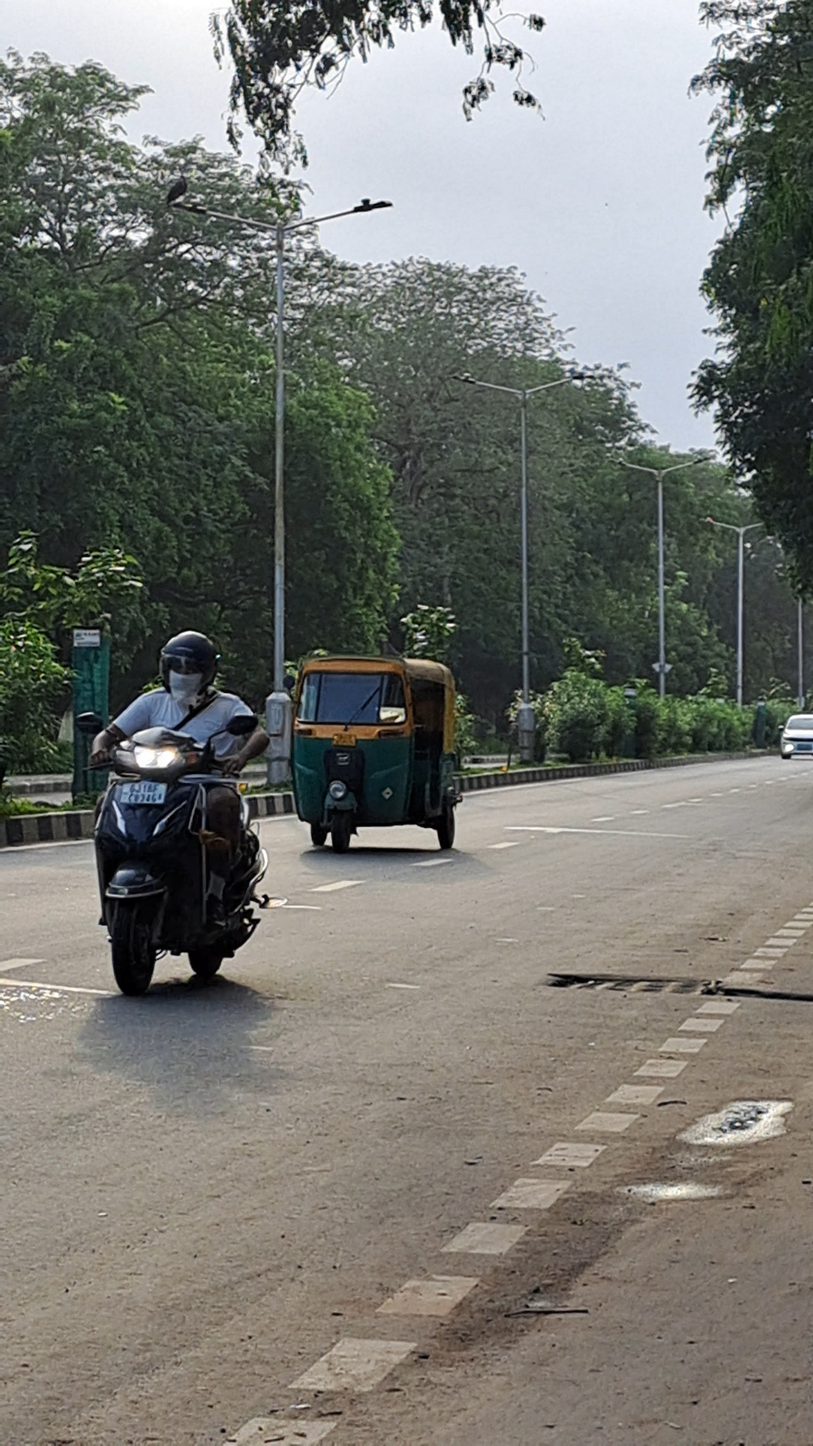BikeWithRider: (67, 622, 286, 1004)
Helmet: (149, 624, 229, 705)
